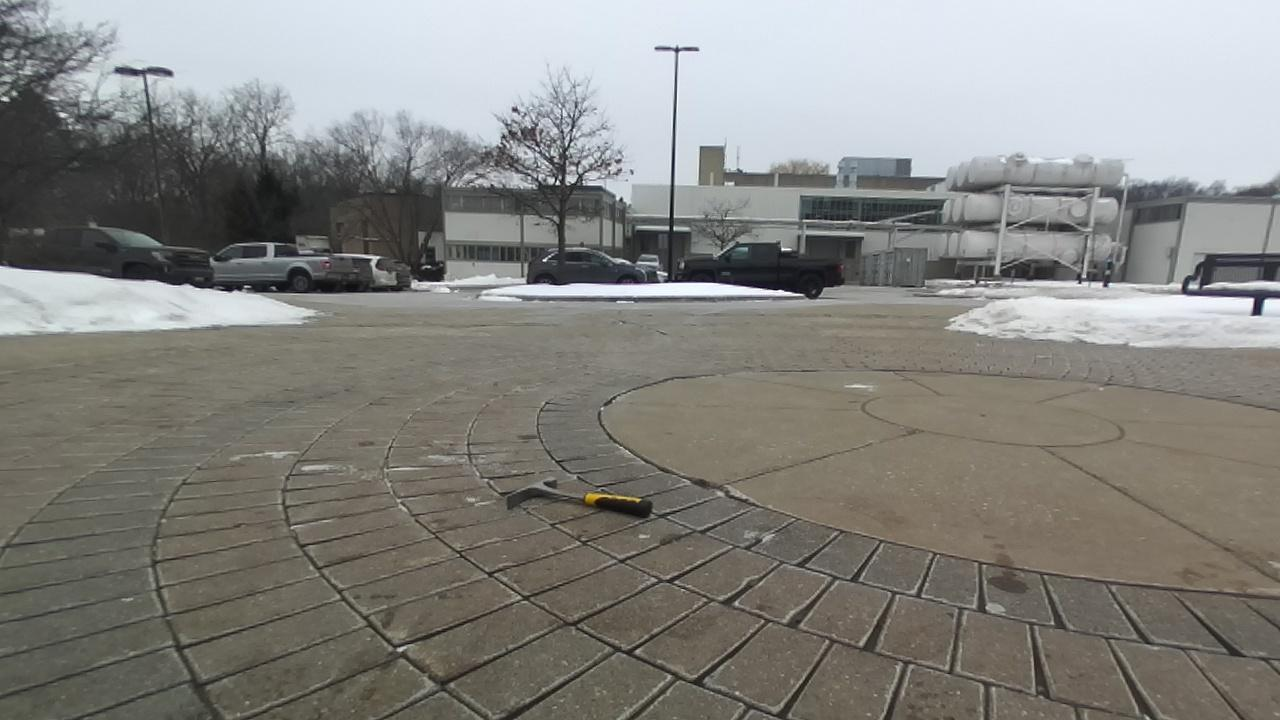pick: (503, 478, 652, 517)
